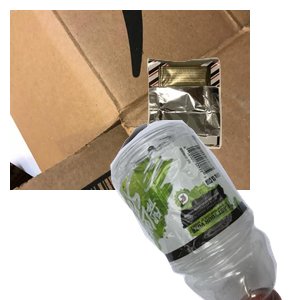cardboard: (10, 10, 250, 190)
glass: (115, 120, 300, 300)
plastic: (73, 120, 300, 300)
trash: (144, 55, 300, 197)
